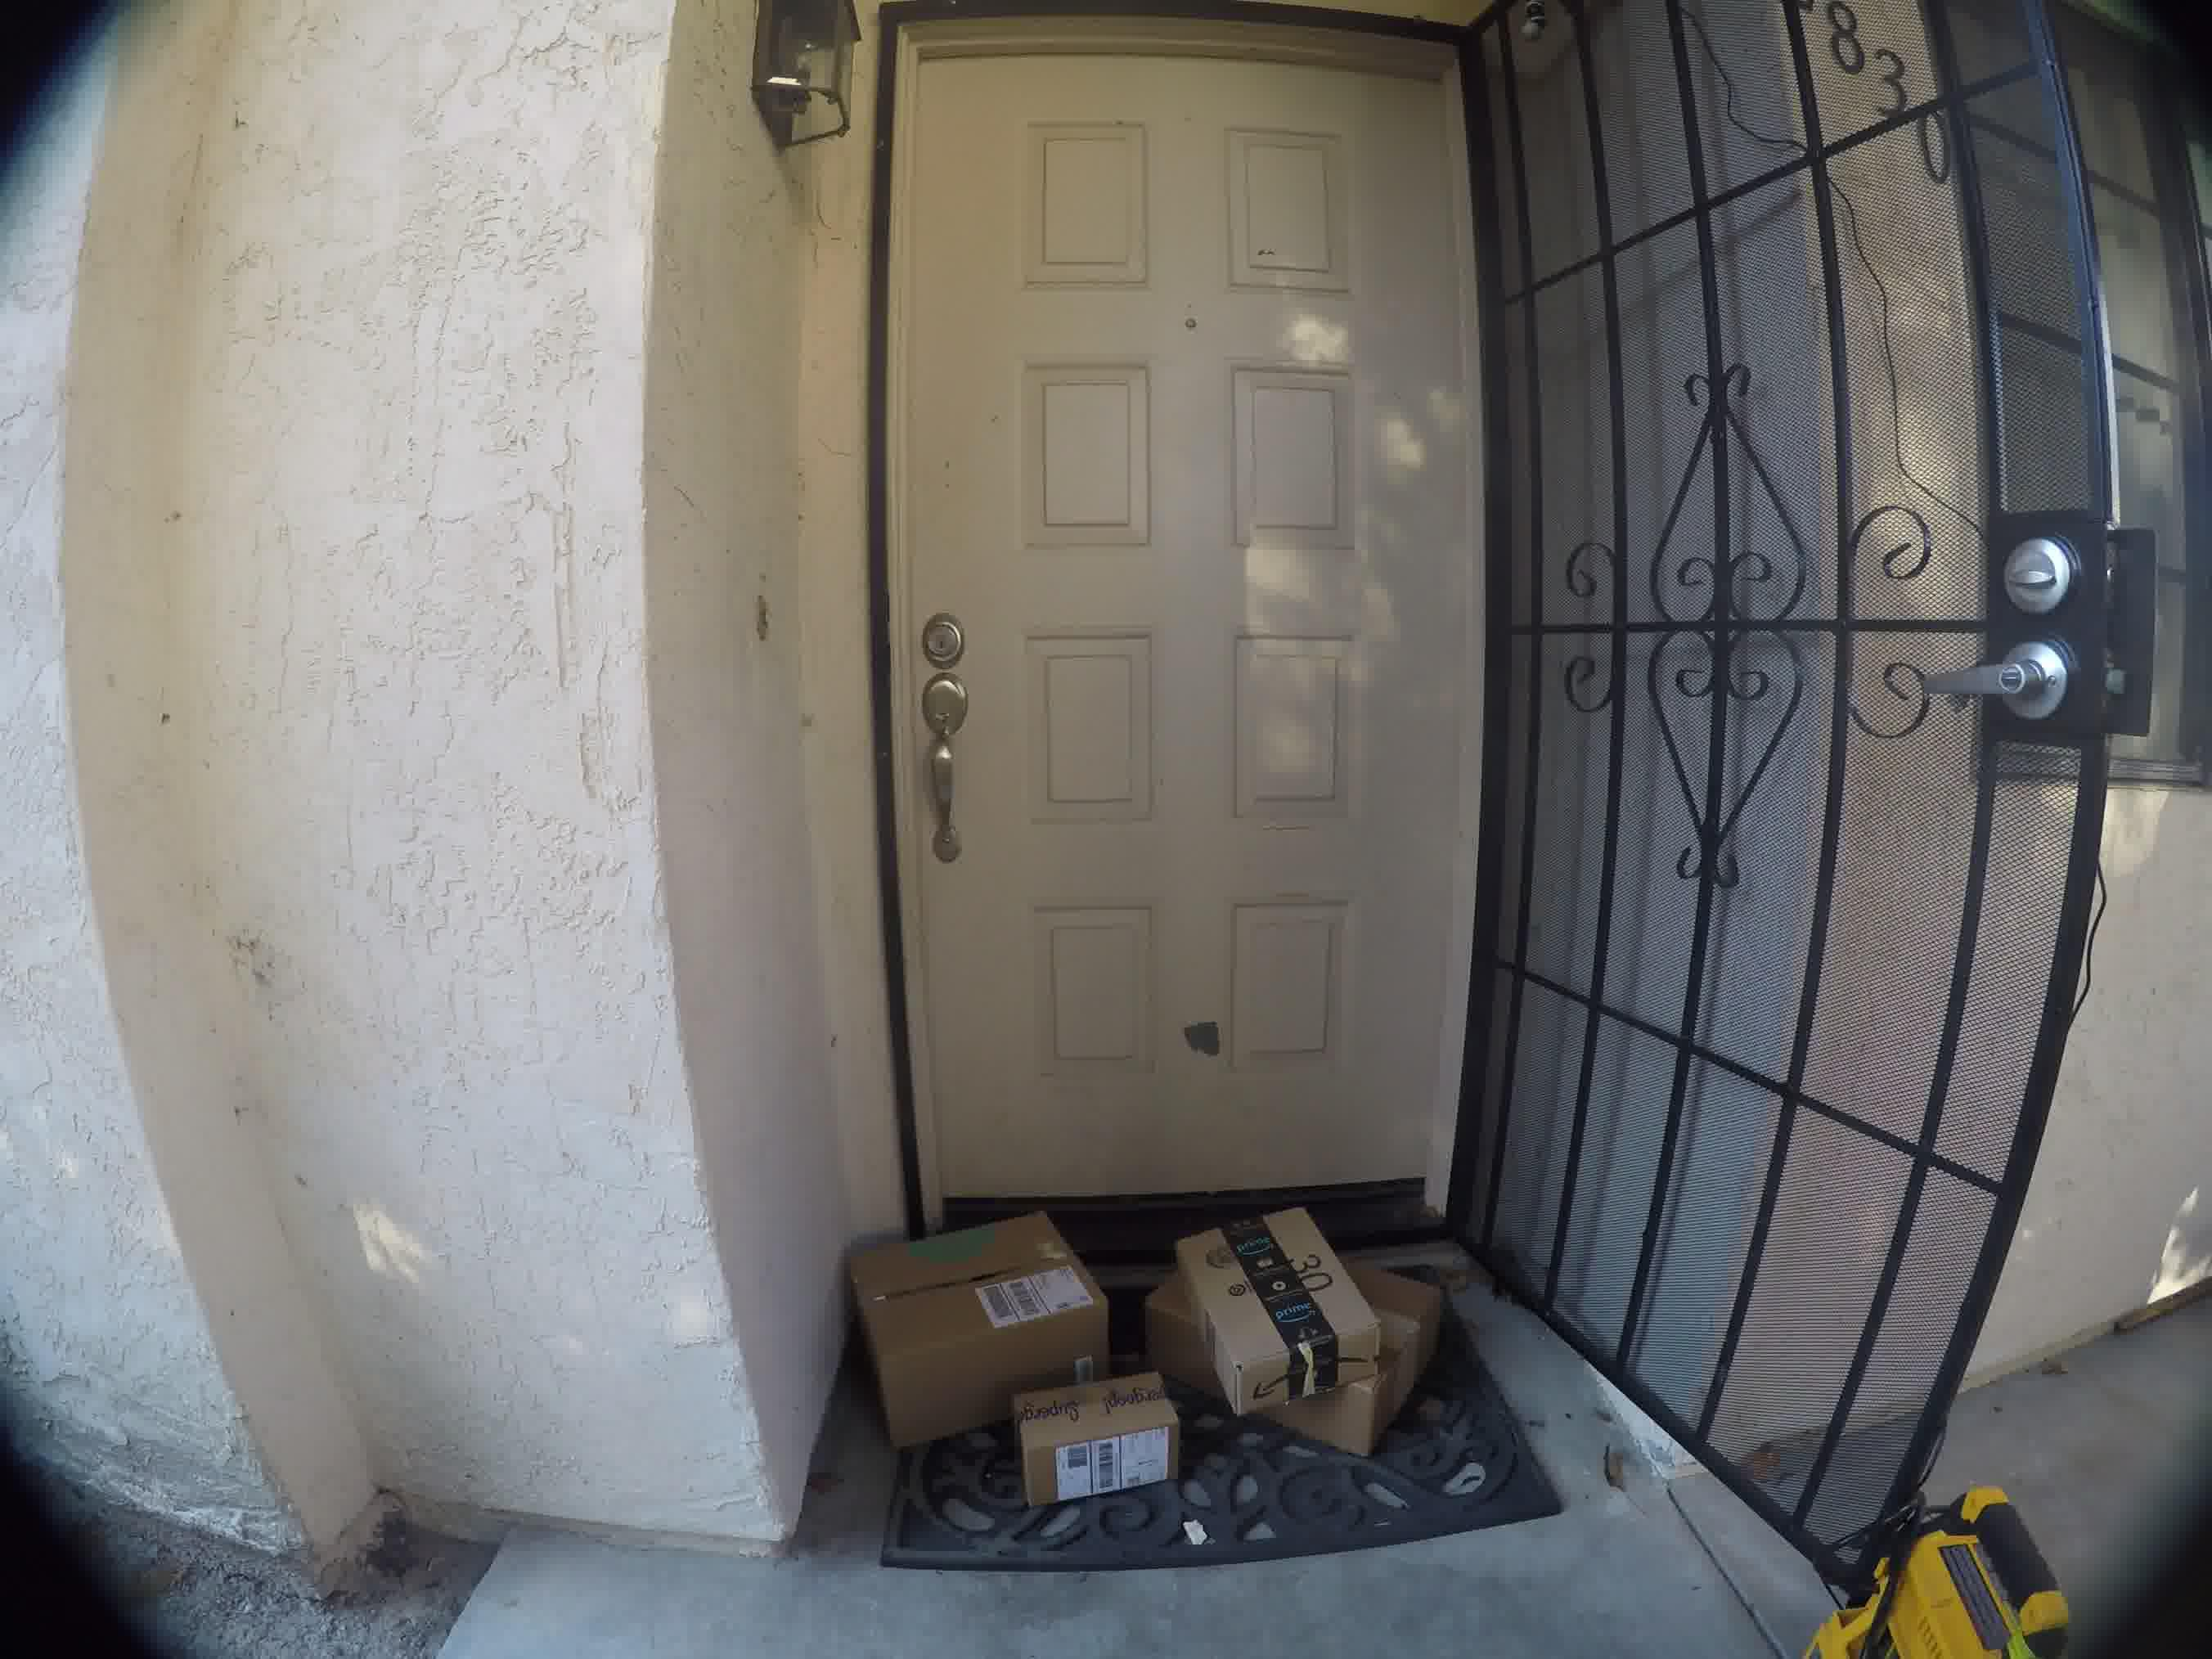box: (817, 1201, 1099, 1399), (1158, 1201, 1369, 1384), (998, 1396, 1186, 1516)
